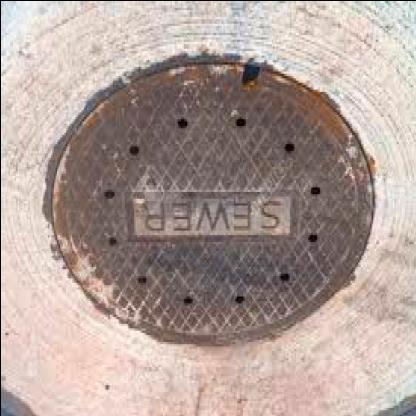manholes: (35, 29, 390, 378)
